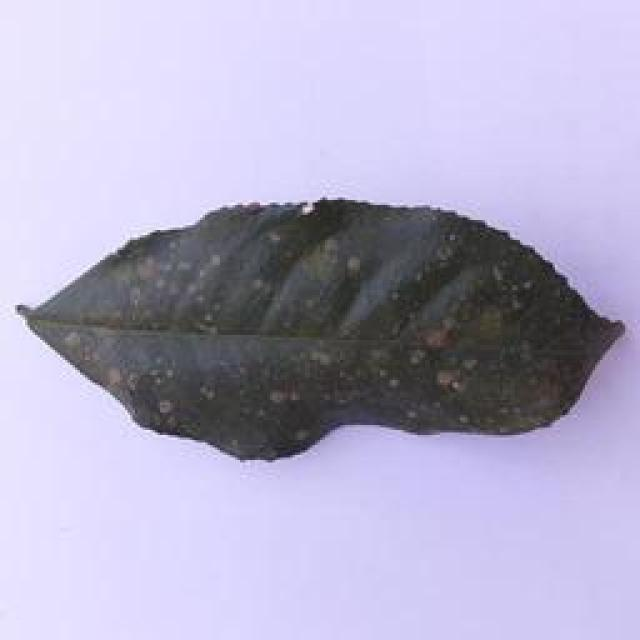Algal Leaf Spot: (7, 187, 626, 483)
